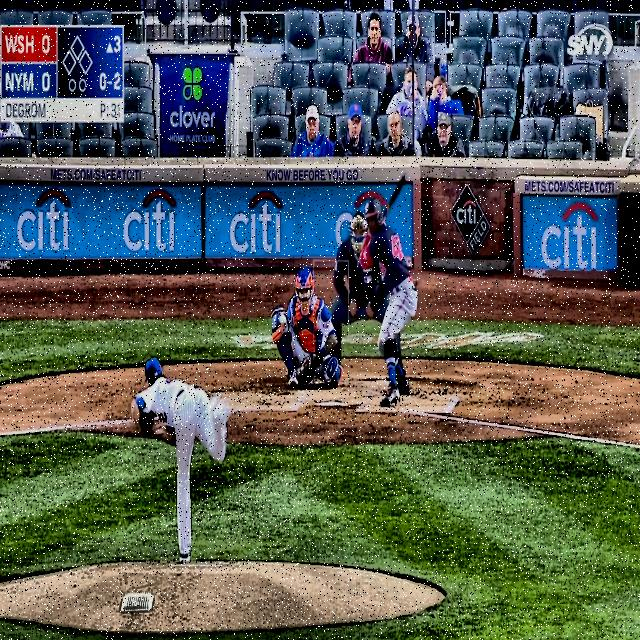baseball: (279, 314, 286, 324)
